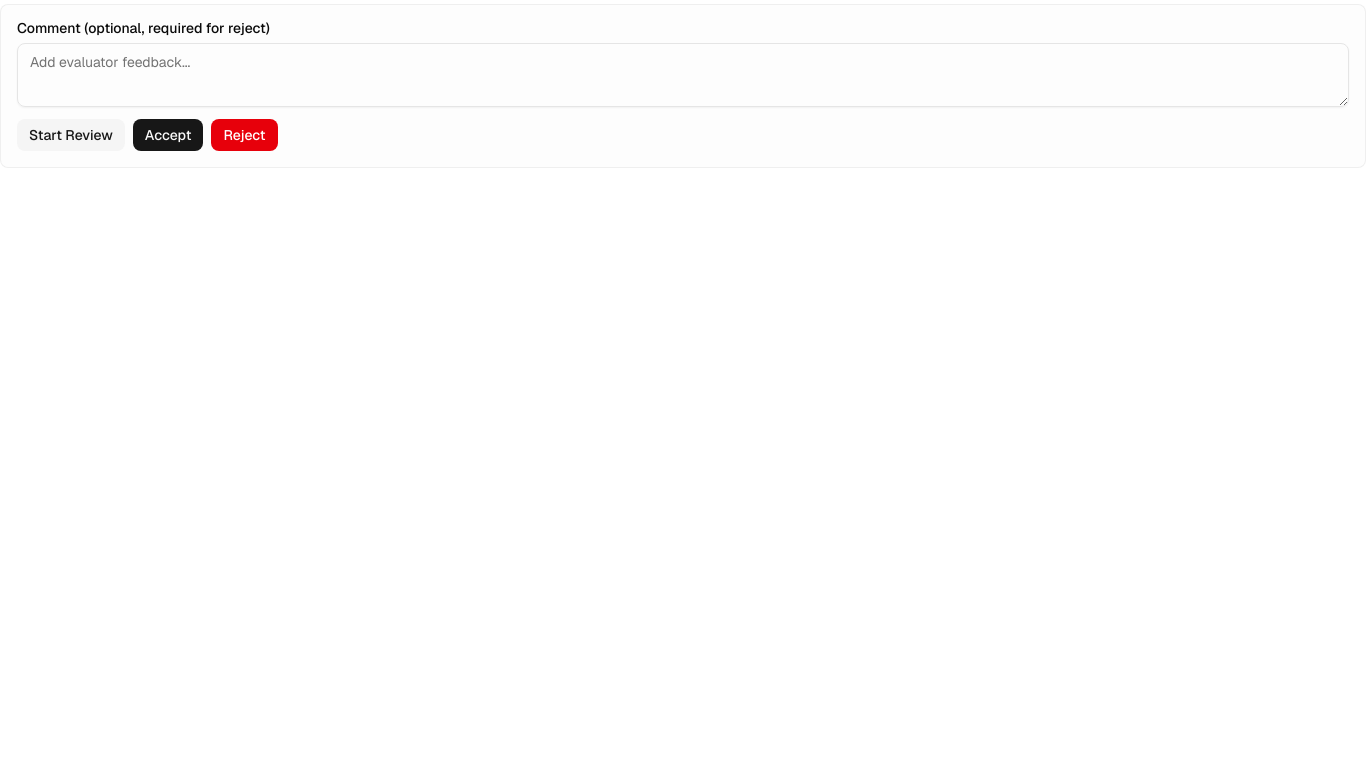
Scenario: AdminActions component › shows warning text when comment is less than 10 chars in reject dialog
This screenshot has width=1366, height=768.
Expected: the button "Reject" is shown, [212,119,278,151]
// Add short comment
Type "Short" into the text box with placeholder "Add evaluator feedback..." at (683, 75), box [17,43,1349,107]
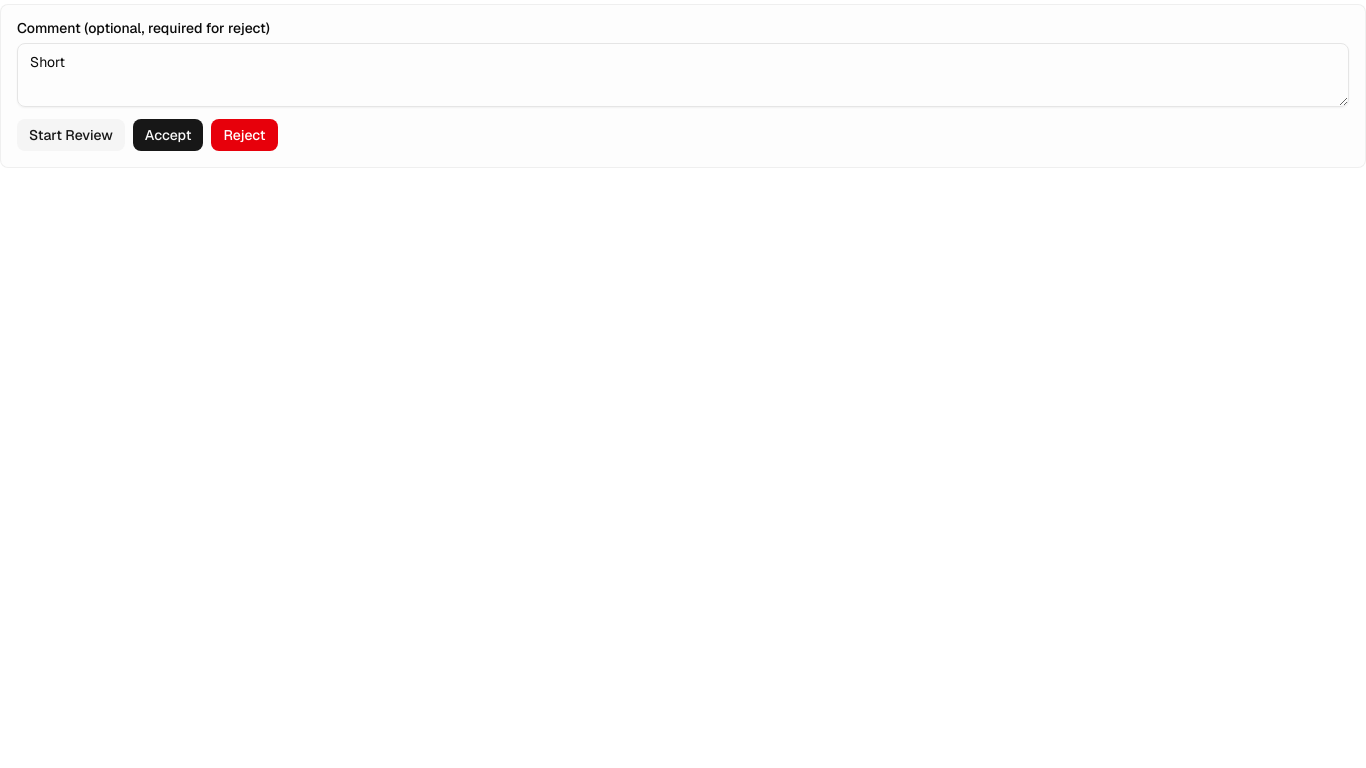
// Open dialog
Click the button "Reject" at (245, 135), box [212,119,278,151]
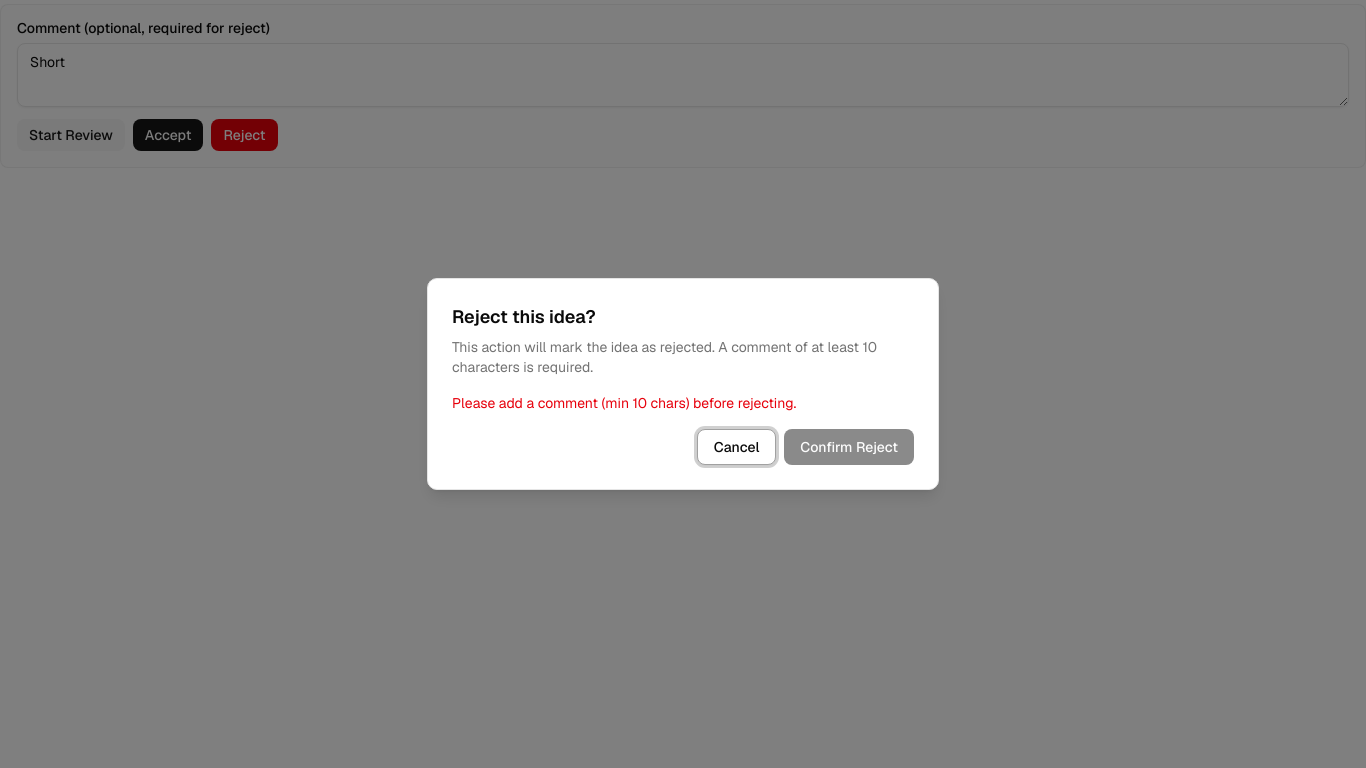
Expected: the text "Please add a comment (min 10 chars) before rejecting." is shown, [452,394,796,412]
